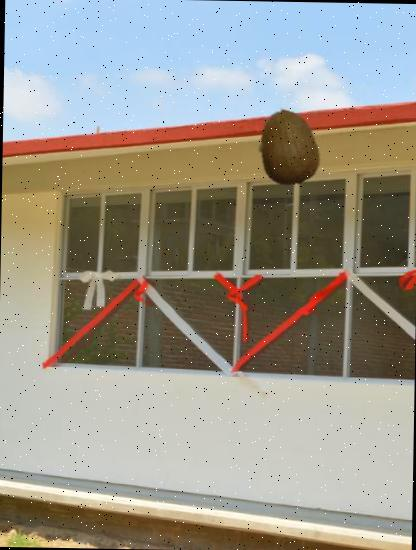Kiwi: (249, 106, 330, 187)
